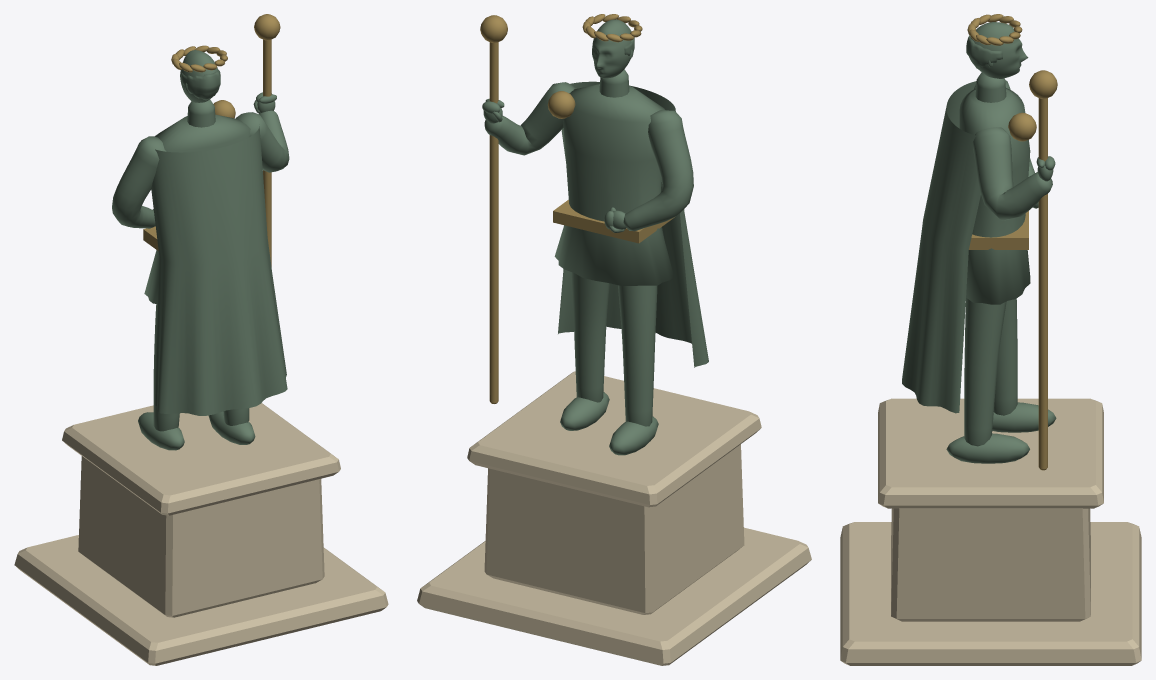
The model's file is emperor.glb.
3 renders of one model, left to right at view 1: azimuth 30°, elevation 25°; view 2: azimuth 150°, elevation 25°; view 3: azimuth 270°, elevation 25°, orthographic. The views are drawn at different scales.
Visible parts, largest first — view 1: Emperor-with-laurel-cloak-and-sceptre; view 2: Emperor-with-laurel-cloak-and-sceptre; view 3: Emperor-with-laurel-cloak-and-sceptre.
Part boxes in pixels (x1,y1,x2,y2): Emperor-with-laurel-cloak-and-sceptre: (14,14,388,665); Emperor-with-laurel-cloak-and-sceptre: (417,14,811,665); Emperor-with-laurel-cloak-and-sceptre: (840,14,1141,665).
Size of the model in its own units: 2.19 by 4.65 by 2.19.
